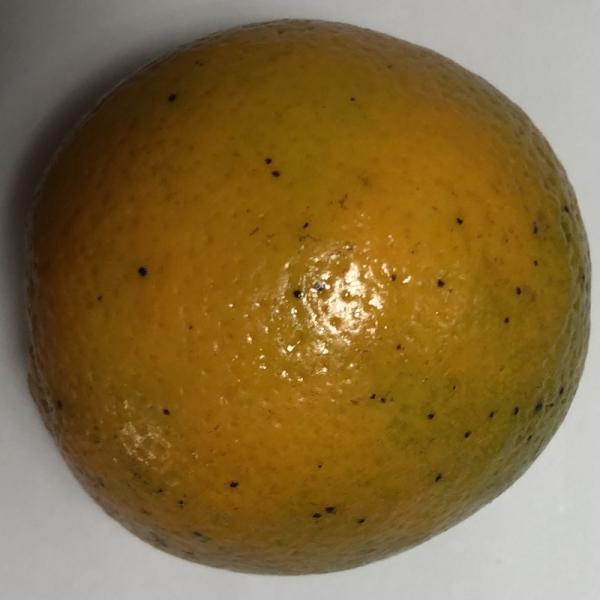Machas negras: (15, 11, 593, 579)
